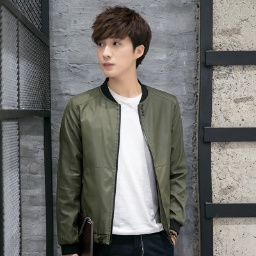face: (92, 6, 151, 77)
